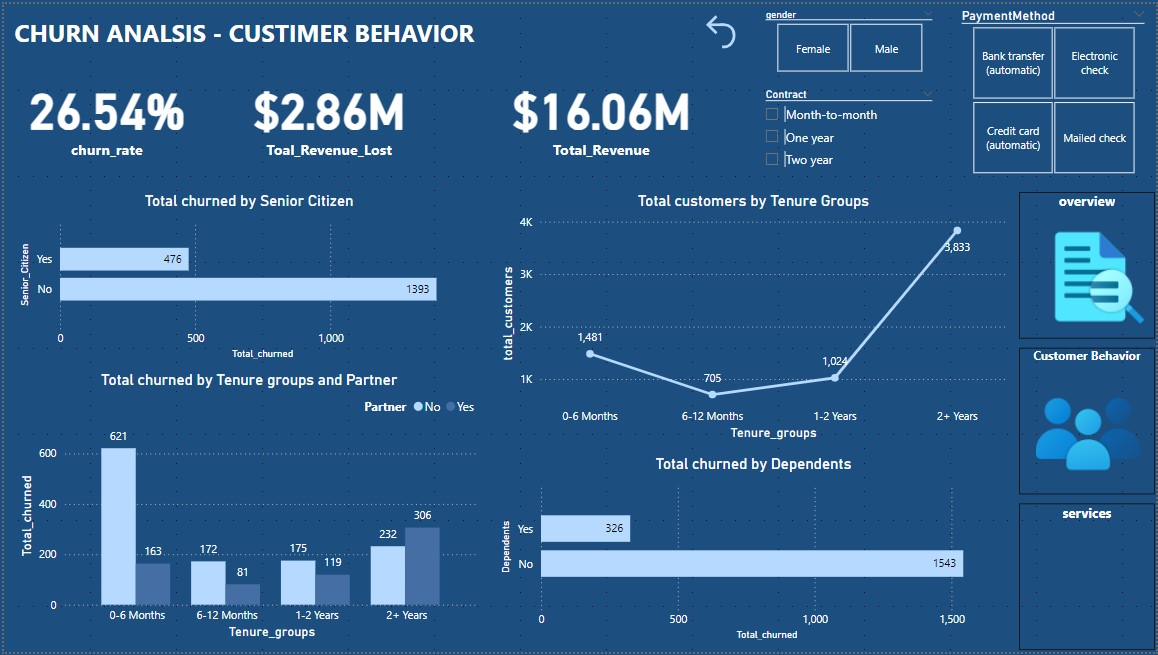

This screenshot's page, from the dashboard's own definition file:
{"tool":"powerbi","page":{"name":"Customer Behavior","canvas":[1280,720],"ordinal":1},"visuals":[{"type":"slicer","fields":{"Values":["Customer_Churn.gender"]},"box":[833,0,210.8,82.5],"z":0,"group":"g1"},{"type":"image","box":[1134.9,235.4,145.1,135.4],"z":0,"group":"g2"},{"type":"image","box":[1136,593,135,110],"z":500,"group":"g2"},{"type":"slicer","fields":{"Values":["Customer_Churn.PaymentMethod"]},"box":[1051.2,0,228.8,194.7],"z":1000,"group":"g1"},{"type":"image","box":[1136.5,410.8,135.2,126.2],"z":1000,"group":"g2"},{"type":"card","fields":{"Values":["measures (2).Total_Revenue"]},"box":[500.6,51.2,325.3,143.5],"z":2000},{"type":"slicer","fields":{"Values":["Customer_Churn.Contract"]},"box":[833,89.4,210.8,109.6],"z":2000,"group":"g1"},{"type":"pageNavigator","box":[1128,209,151.6,511],"z":2000,"group":"g2"},{"type":"card","fields":{"Values":["measures (2).Revenue_Lost"]},"box":[222.4,51.2,278.2,144.1],"z":3000},{"type":"barChart","title":"Total churned by Senior Citizen","fields":{"Y":["measures (2).Total_churned"],"Category":["Customer_Churn.Senior_Citizen"]},"box":[12.3,208.5,520,190],"z":4000},{"type":"barChart","title":"Total churned by Dependents","fields":{"Category":["Customer_Churn.Dependents"],"Y":["measures (2).Total_churned"]},"box":[547,501,572,210],"z":5000},{"type":"group","id":"g1","title":"Group 2","box":[833,0,447,199],"z":5500},{"type":"clusteredColumnChart","title":"Total churned by Tenure groups and Partner","fields":{"Category":["Tenure_maping.Tenure_Buckets"],"Y":["measures (2).Total_churned"],"Series":["Customer_Churn.Partner"]},"box":[12,408,520,303],"z":6000},{"type":"lineChart","title":"Total customers by Tenure Groups","fields":{"Category":["Tenure_maping.Tenure_Buckets"],"Y":["measures (2).total_customers"]},"box":[547,209,572,280],"z":7000},{"type":"group","id":"g2","title":"Group 1","box":[1128,209,152,511],"z":8000},{"type":"card","fields":{"Values":["measures (2).churn_rate"]},"box":[7.1,51.2,215.3,144.1],"z":9000},{"type":"textbox","box":[6.7,7.8,540,51.1],"z":10000},{"type":"actionButton","box":[767,7,59,44],"z":11000}]}

Visuals, with their boxes in screenshot pixels (x1, y1, x2, y2), scaled from the page's 1280x720 canvas onto the 1158x655 screenshot:
slicer - Customer_Churn.gender: Rect(754, 0, 944, 75)
image: Rect(1027, 214, 1157, 337)
image: Rect(1028, 539, 1150, 640)
slicer - Customer_Churn.PaymentMethod: Rect(951, 0, 1157, 177)
image: Rect(1028, 374, 1150, 489)
card - measures (2).Total_Revenue: Rect(453, 47, 747, 177)
slicer - Customer_Churn.Contract: Rect(754, 81, 944, 181)
pageNavigator: Rect(1020, 190, 1157, 654)
card - measures (2).Revenue_Lost: Rect(201, 47, 453, 178)
"Total churned by Senior Citizen" barChart: Rect(11, 190, 482, 363)
"Total churned by Dependents" barChart: Rect(495, 456, 1012, 647)
"Group 2" group: Rect(754, 0, 1157, 181)
"Total churned by Tenure groups and Partner" clusteredColumnChart: Rect(11, 371, 481, 647)
"Total customers by Tenure Groups" lineChart: Rect(495, 190, 1012, 445)
"Group 1" group: Rect(1020, 190, 1157, 654)
card - measures (2).churn_rate: Rect(6, 47, 201, 178)
textbox: Rect(6, 7, 495, 54)
actionButton: Rect(694, 6, 747, 46)
